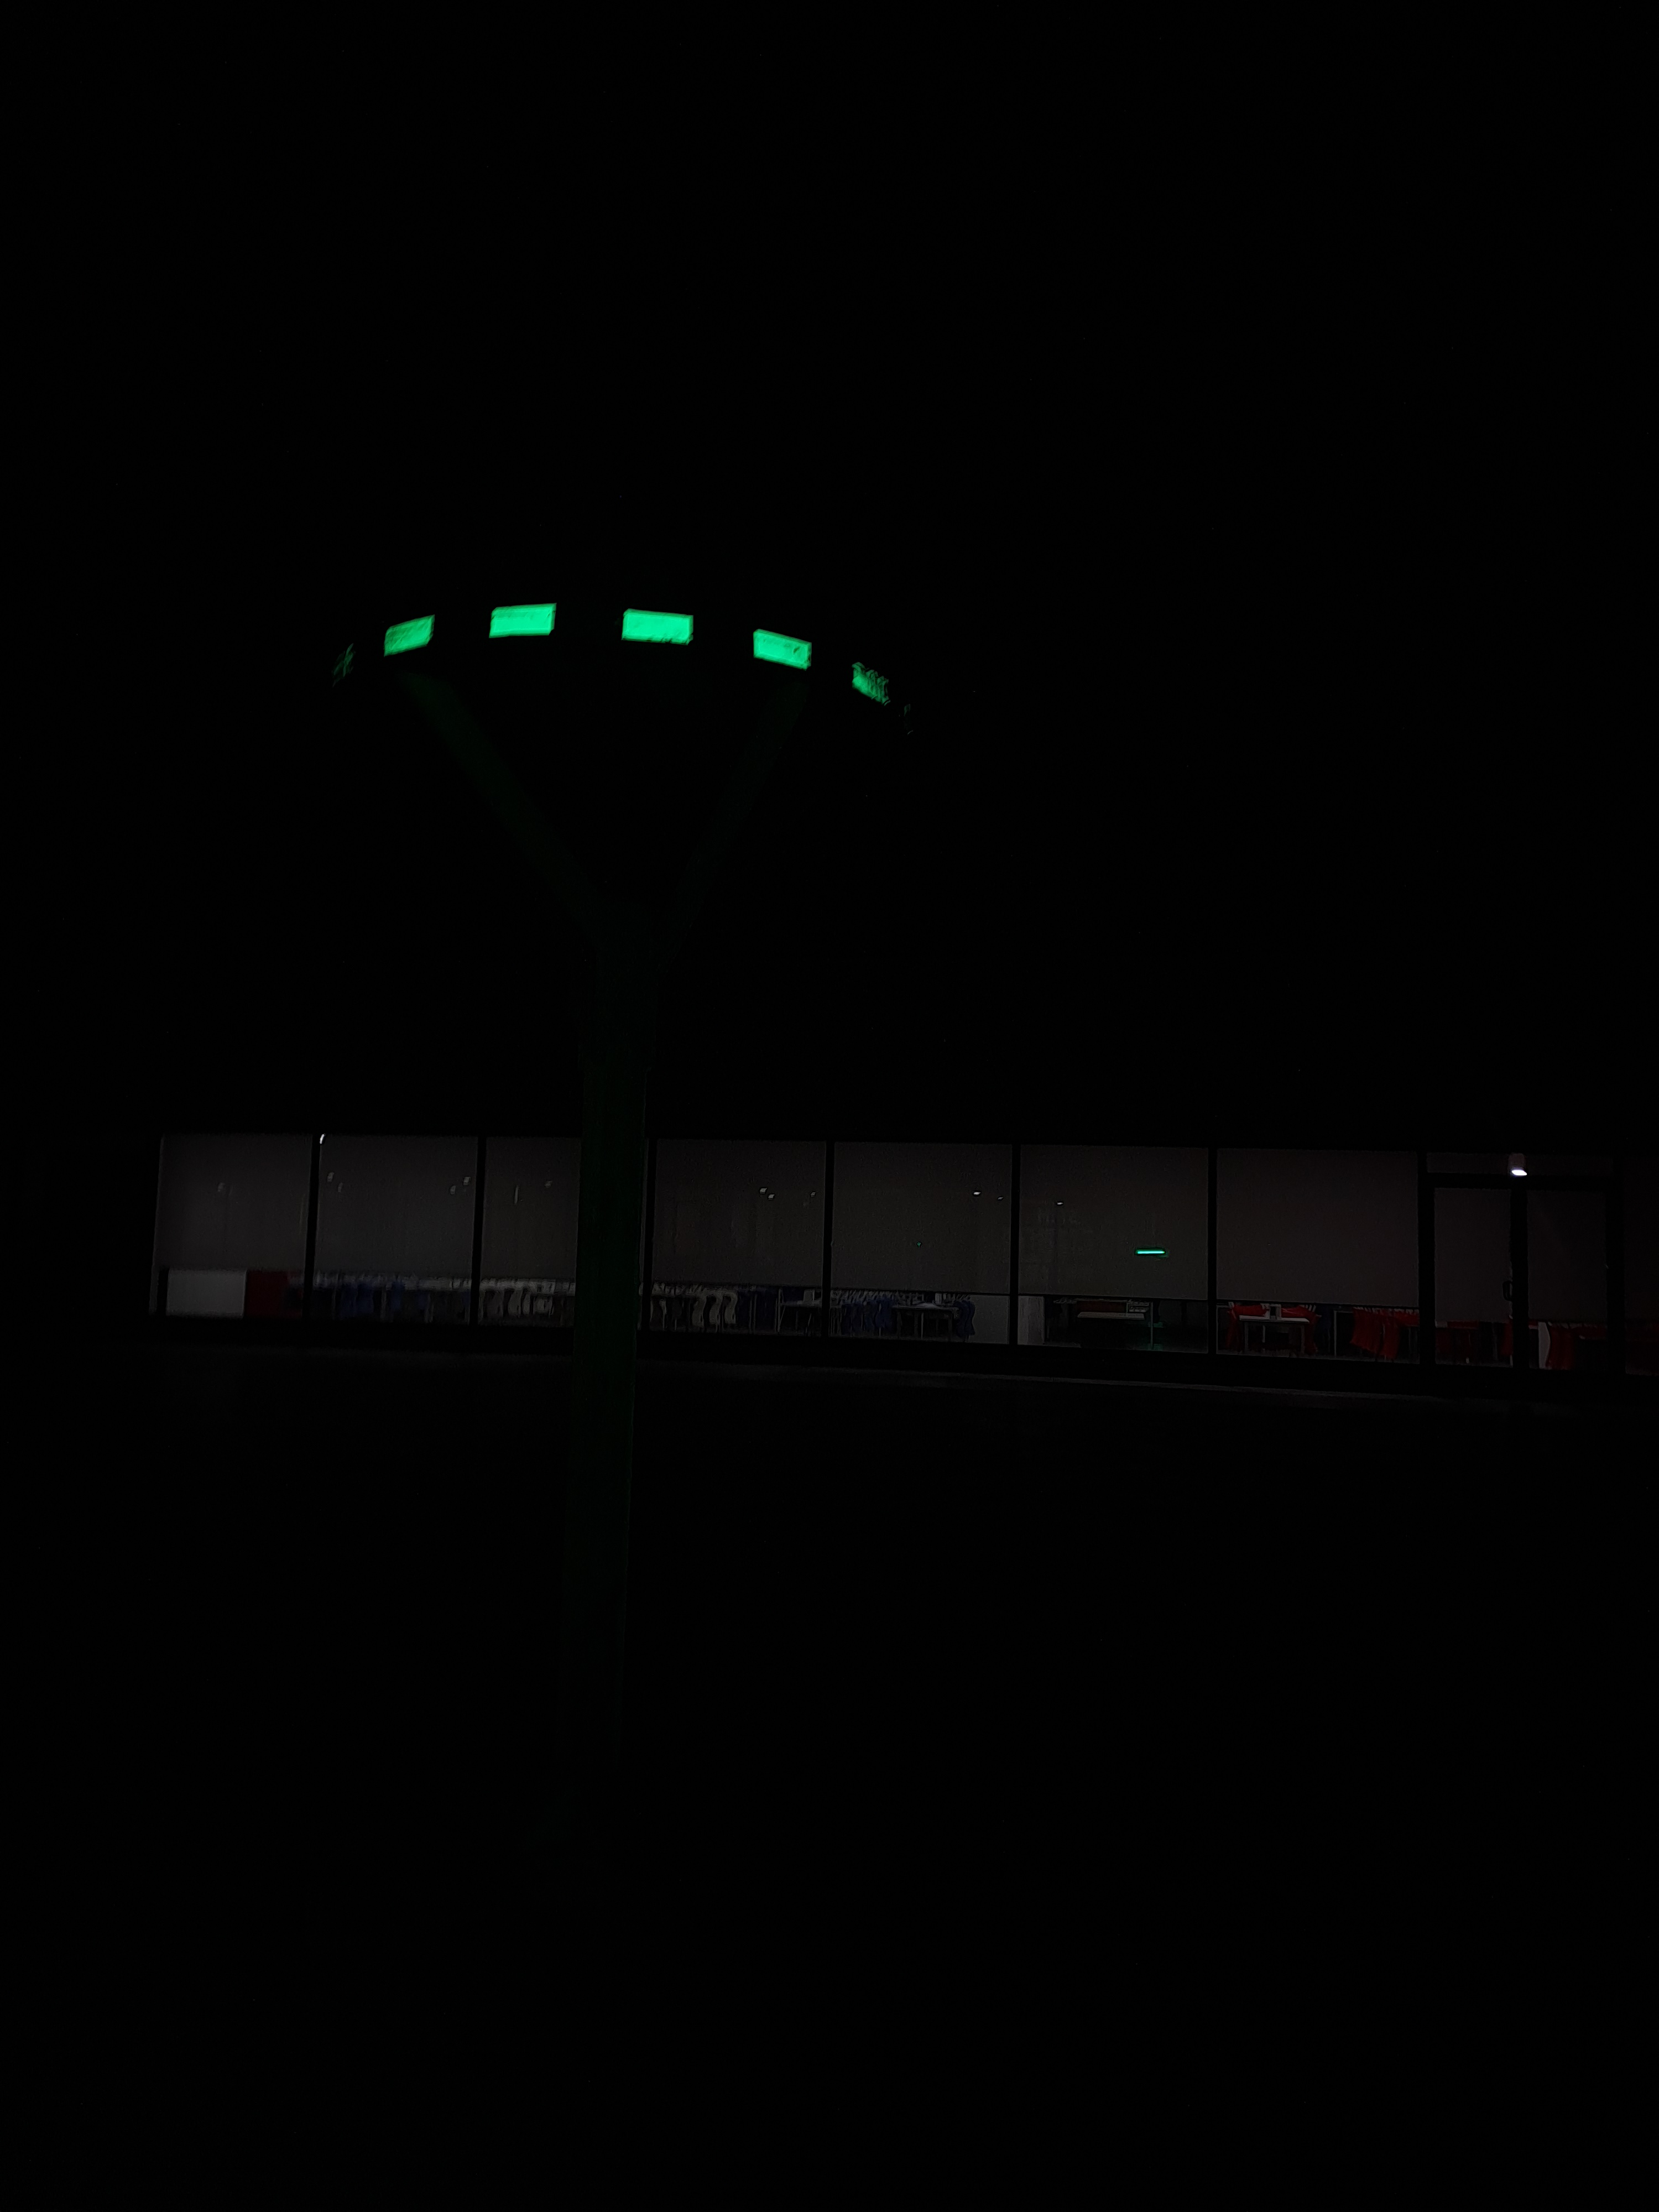hoop: (375, 599, 901, 714)
